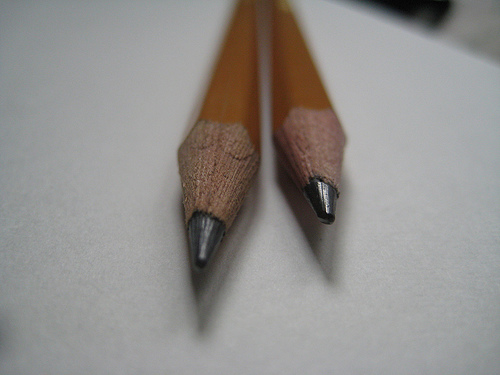pen_tip: (174, 112, 263, 277), (265, 97, 356, 237)
